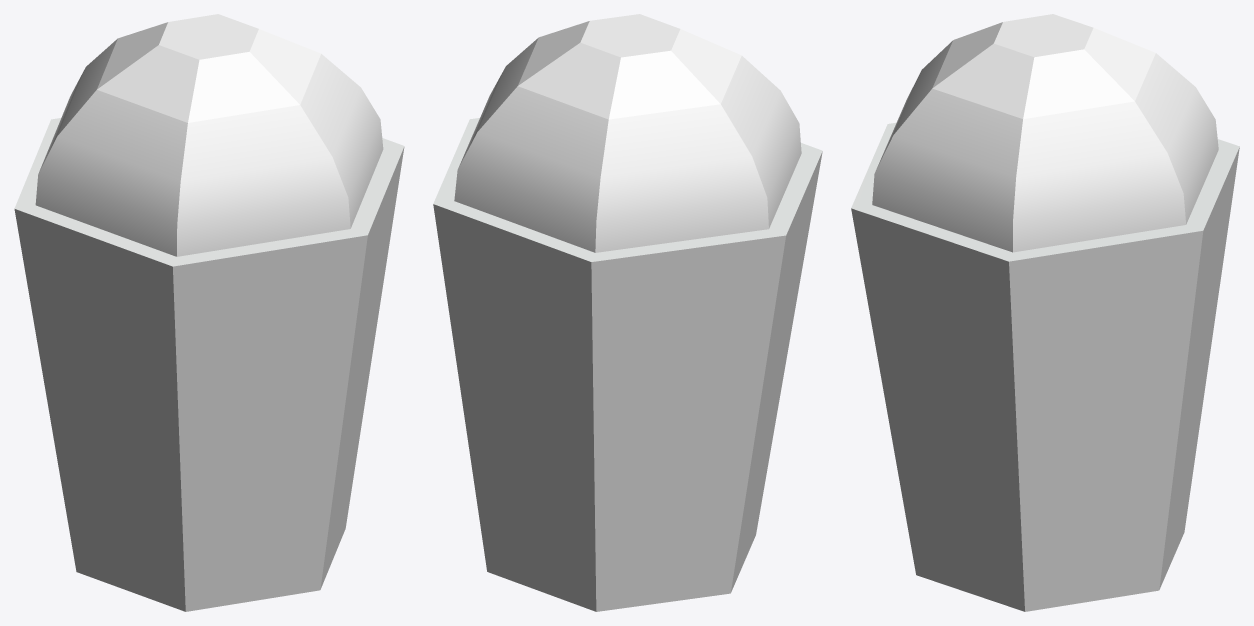
Rendered from Popcorn.fbx.
3 views of the same model, side by side, from view 1: azimuth 30°, elevation 25°; view 2: azimuth 150°, elevation 25°; view 3: azimuth 270°, elevation 25° (orthographic).
Visible parts, largest first — view 1: bong_ngo17; view 2: bong_ngo17; view 3: bong_ngo17.
Part boxes in pixels (left/top/right/bottom): bong_ngo17: left=14, top=14, right=404, bottom=611; bong_ngo17: left=433, top=14, right=822, bottom=611; bong_ngo17: left=851, top=14, right=1239, bottom=611.
Size of the model in its own units: 0.2508 by 0.3526 by 0.2397.
1 material, 1 textured.
